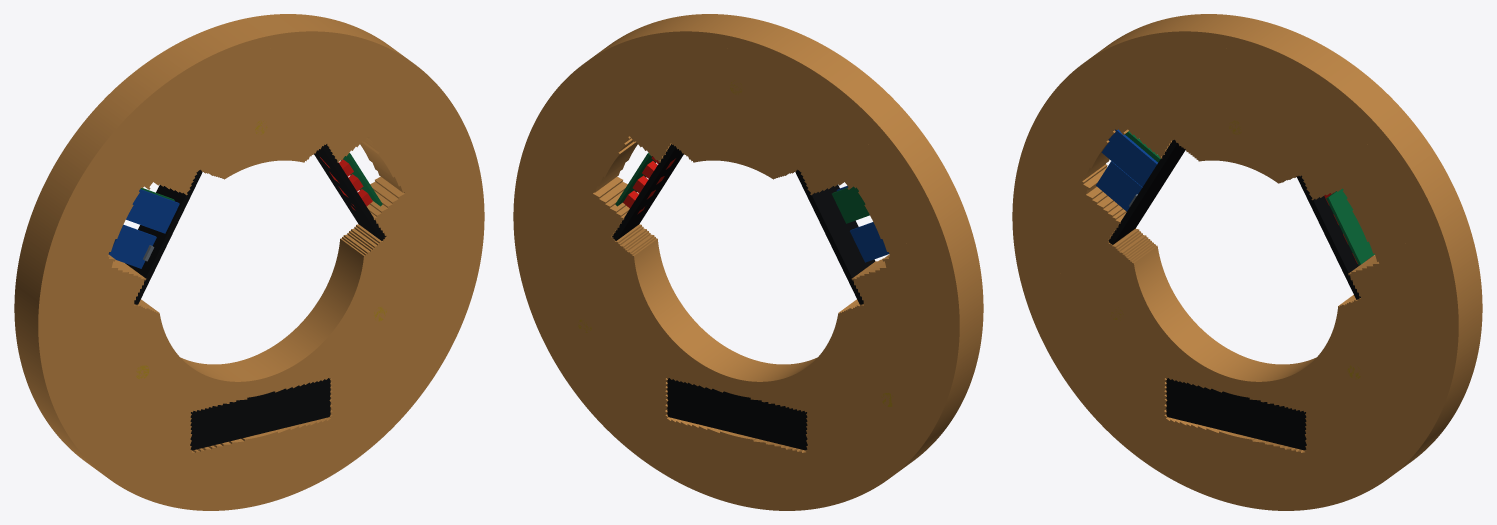
The model's file is tron-frame-review.obj.
The picture shows the model from 3 angles, left to right: view 1: azimuth 30°, elevation 25°; view 2: azimuth 150°, elevation 25°; view 3: azimuth 330°, elevation 25°; orthographic projection.
Parts seen in each view (by area): view 1: wood, black, pcb_blue, pcb_green; view 2: wood, black, pcb_green, pcb_blue, button; view 3: wood, black, pcb_blue, pcb_green.
Boxes of the visible parts, x1,y1,x2,y2 form: wood: [14, 14, 484, 510]; black: [125, 144, 385, 450]; pcb_blue: [108, 189, 179, 268]; pcb_green: [140, 153, 382, 206]; wood: [513, 14, 983, 510]; black: [612, 144, 875, 450]; pcb_green: [615, 153, 869, 223]; pcb_blue: [836, 186, 889, 262]; button: [623, 156, 675, 214]; wood: [1012, 14, 1482, 510]; black: [1108, 139, 1360, 450]; pcb_blue: [1096, 129, 1157, 211]; pcb_green: [1125, 131, 1374, 265].
Bounding box in the file's own units: 260 × 260 × 24.
